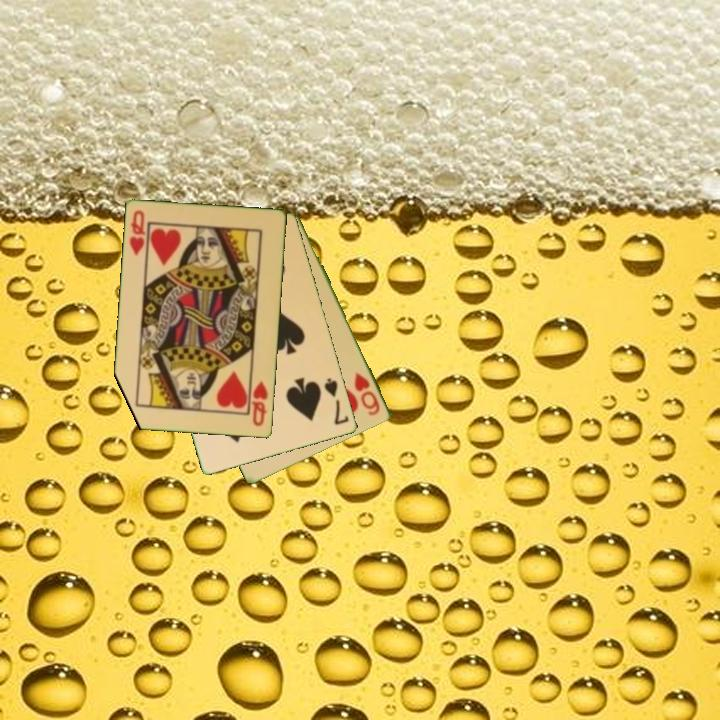6h: (351, 369, 383, 419)
7s: (321, 374, 352, 428)
Qh: (126, 207, 151, 259), (248, 377, 271, 430)
